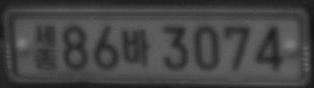0: (194, 25, 220, 71)
3: (162, 25, 189, 71)
4: (255, 24, 285, 72)
6: (92, 24, 119, 71)
7: (223, 25, 250, 71)
8: (62, 24, 88, 70)
바: (121, 27, 150, 67)
세종_V: (33, 24, 57, 71)
